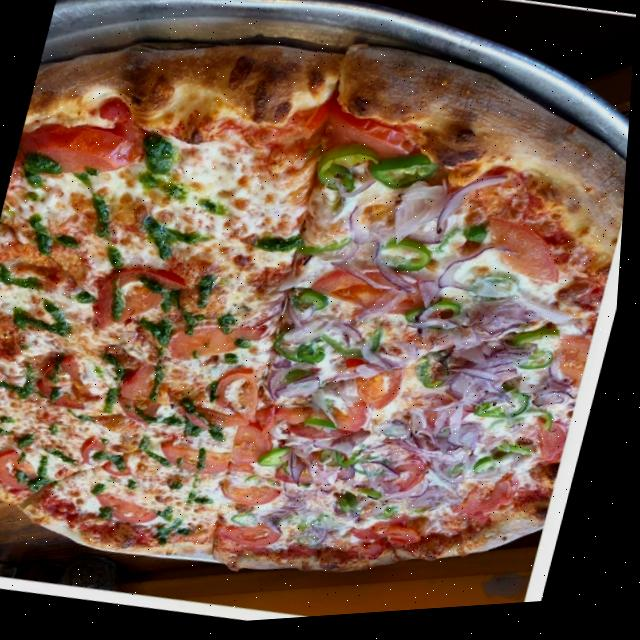pizza: (0, 0, 640, 640)
tomatoes: (296, 86, 433, 180), (13, 110, 152, 196), (307, 256, 441, 336), (476, 214, 583, 301), (257, 387, 382, 460), (93, 255, 197, 339), (168, 307, 281, 380), (29, 344, 116, 429), (158, 433, 264, 490), (108, 357, 183, 437), (343, 517, 441, 578), (454, 467, 535, 538), (209, 363, 278, 436), (88, 483, 173, 539), (80, 432, 150, 492), (227, 422, 289, 485), (350, 362, 415, 422), (219, 517, 294, 565), (181, 399, 256, 447), (547, 336, 597, 403), (0, 444, 54, 502), (530, 414, 578, 479), (220, 478, 288, 521), (394, 455, 440, 505), (0, 354, 0, 426)
